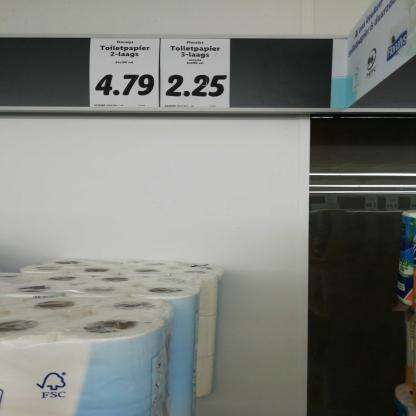prtg: (161, 39, 231, 109), (91, 39, 161, 108)
